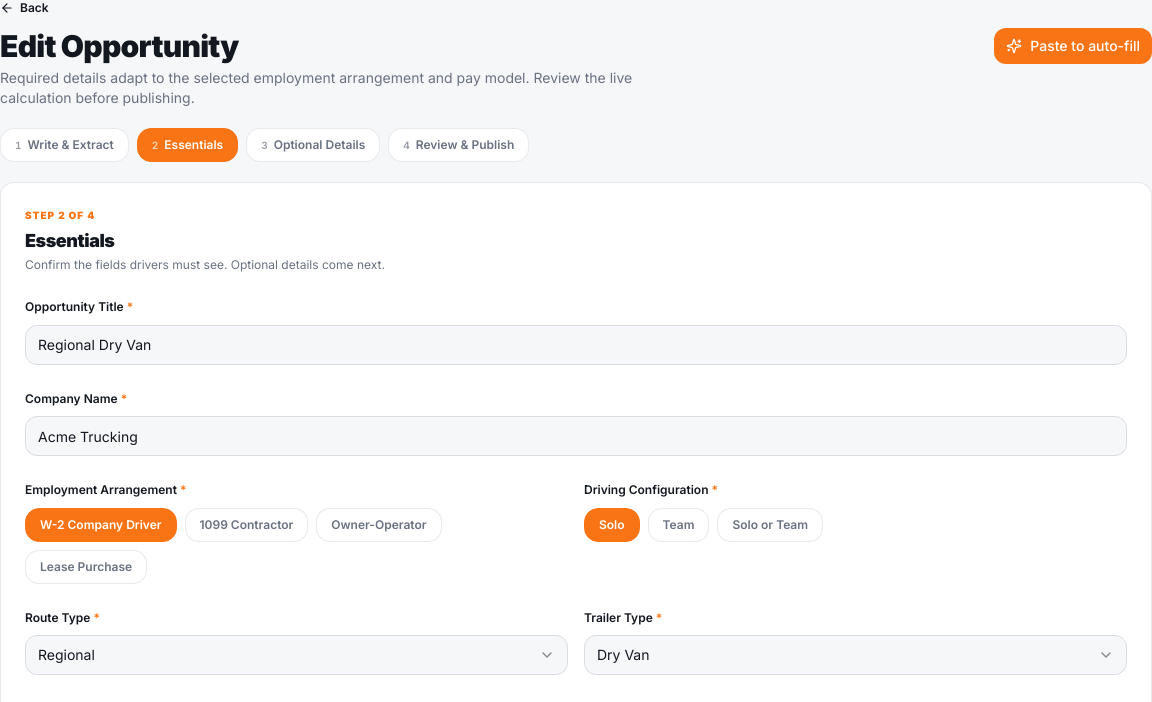
Test case: Phase 1O-A-R2 — locked publication checklist + preview + cost-note copy › company-driver operating-cost note uses the locked W-2 sentence
The width and height of the screenshot is (1152, 702).
Click the tab "3Optional Details".
click(313, 145)  # box [246, 128, 380, 162]
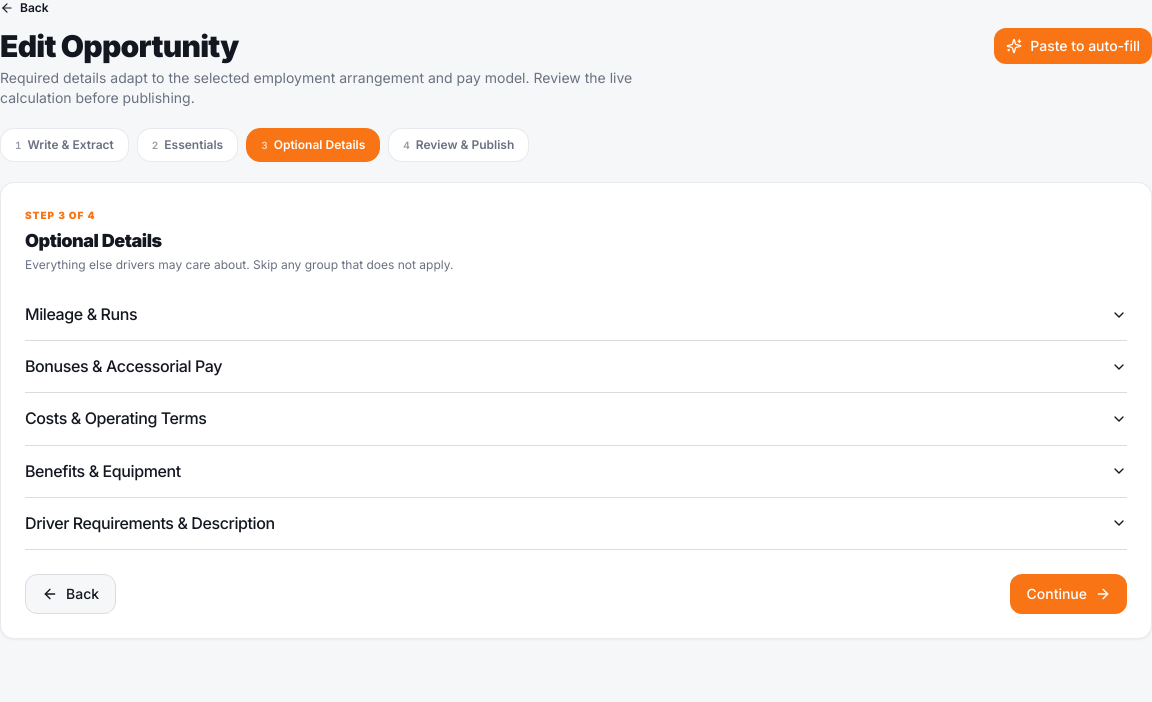
Click the button "Costs & Operating Terms".
click(116, 418)  # box [25, 393, 1127, 445]
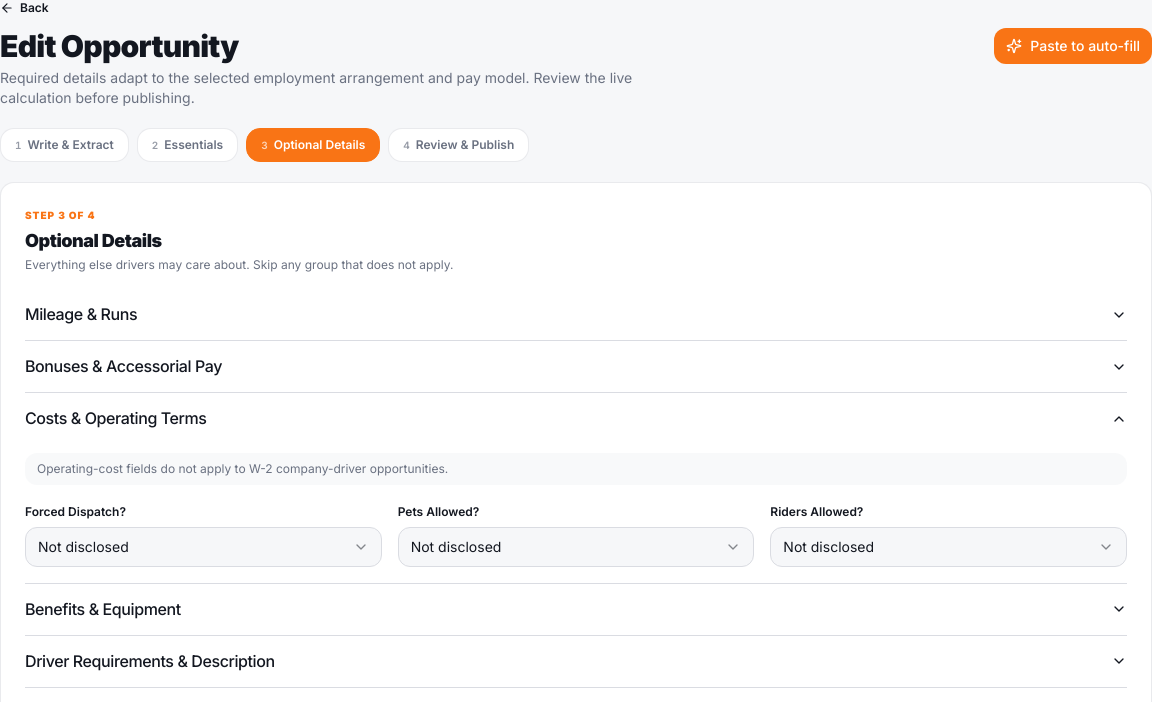
Expected: the text "Operating-cost fields do not apply to W-2 company-driver opportunities." is shown, [25, 453, 1127, 485]
